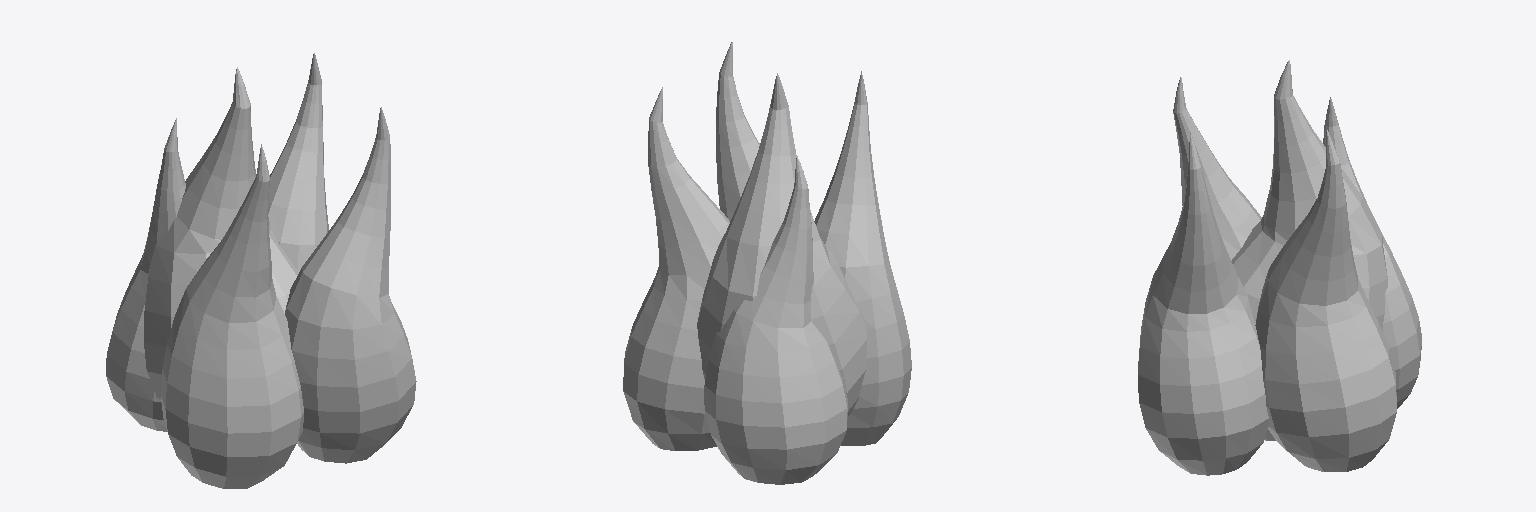
The model's file is fire_000025.obj.
3 renders of one model, left to right at view 1: azimuth 30°, elevation 25°; view 2: azimuth 150°, elevation 25°; view 3: azimuth 270°, elevation 25°, orthographic.
Visible parts, largest first — view 1: flame_NurbsPath.015; view 2: flame_NurbsPath.015; view 3: flame_NurbsPath.015.
Part boxes in pixels (bbox=[...]): flame_NurbsPath.015: bbox=[106, 53, 416, 488]; flame_NurbsPath.015: bbox=[623, 42, 911, 484]; flame_NurbsPath.015: bbox=[1138, 60, 1421, 475].
Bounding box in the file's own units: 0.746 × 1.2 × 0.813.